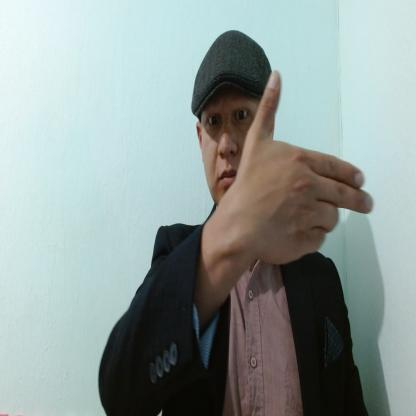H: (238, 68, 373, 268)
